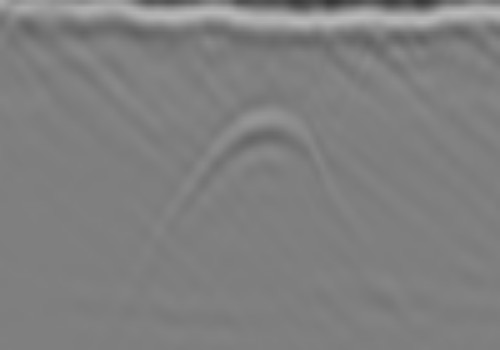hyperbola: (157, 93, 329, 282)
